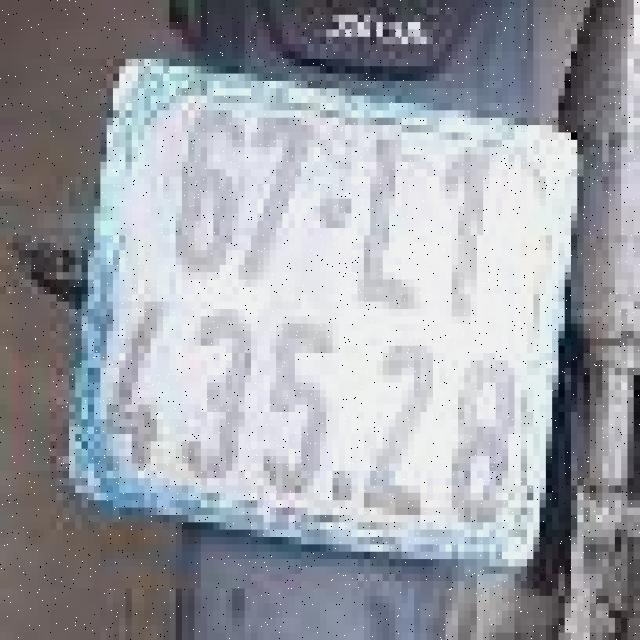1: (433, 136, 502, 327)
2: (364, 323, 439, 530)
3: (176, 294, 251, 500)
4: (104, 290, 166, 474)
5: (260, 309, 336, 508)
6: (176, 96, 244, 272)
7: (238, 107, 314, 290)
8: (448, 346, 518, 530)
L: (351, 121, 427, 320)
